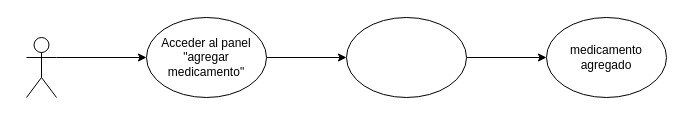
Image size: 684x136. Some labels were removed from this diagram. Here are the shapes that lost their labels. From the top down, the box of each, then its label:
(26, 36, 56, 98): Cuidador
(346, 16, 466, 98): Llenar los campos solicitados
